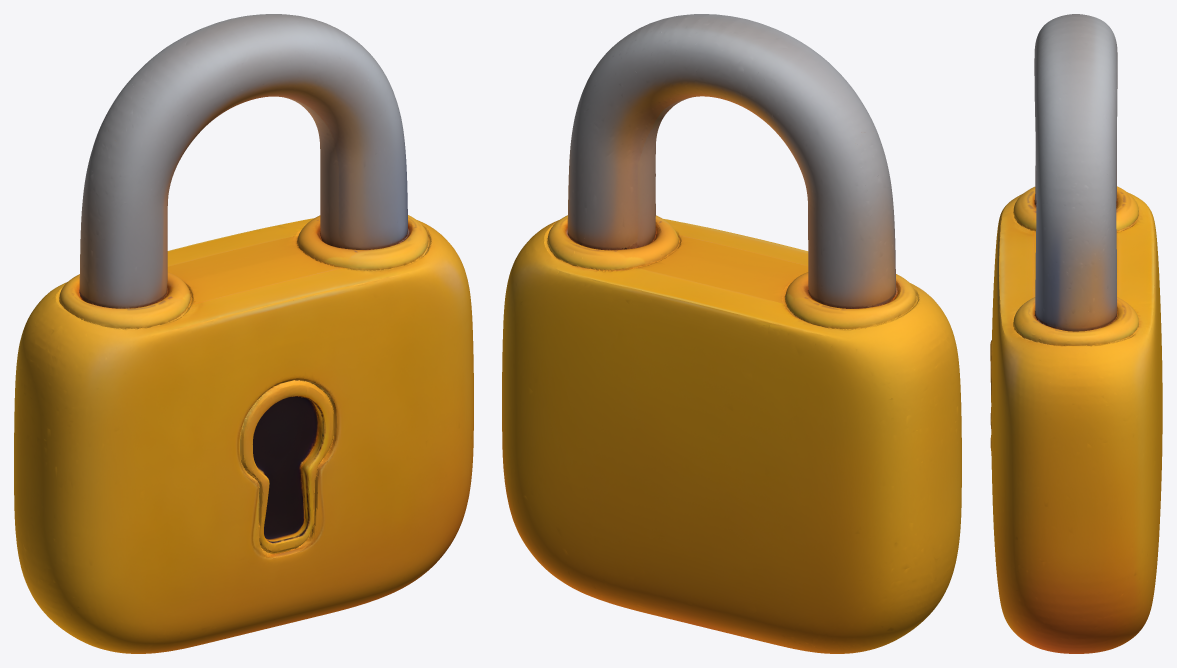
Rendered from base_basic_pbr.glb.
3 renders of one model, left to right at view 1: azimuth 30°, elevation 25°; view 2: azimuth 150°, elevation 25°; view 3: azimuth 270°, elevation 25°, orthographic. The views are drawn at different scales.
Parts seen in each view (by area): view 1: model; view 2: model; view 3: model.
Part boxes in pixels (<box>): model: <box>14,14,473,653</box>; model: <box>502,14,961,653</box>; model: <box>990,14,1162,653</box>.
Bounding box in the file's own units: 1.42 × 1.9 × 0.5258.
1 material, 1 textured.
